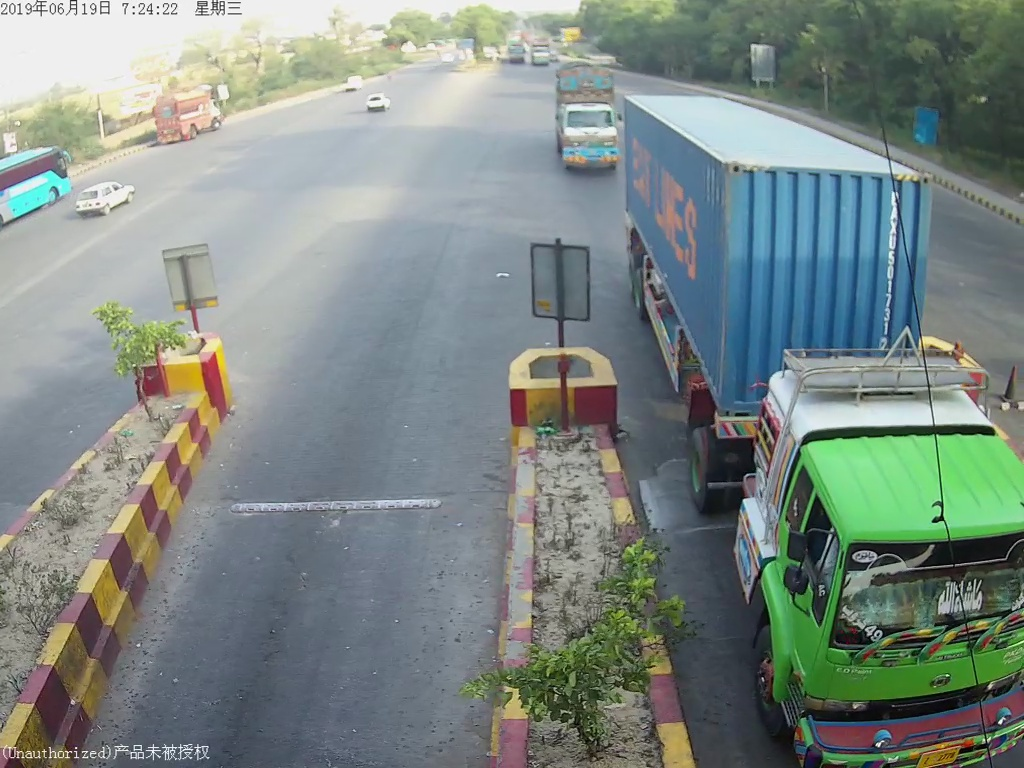Cat-4: (550, 64, 619, 181)
Cat-5: (625, 94, 1014, 768)
